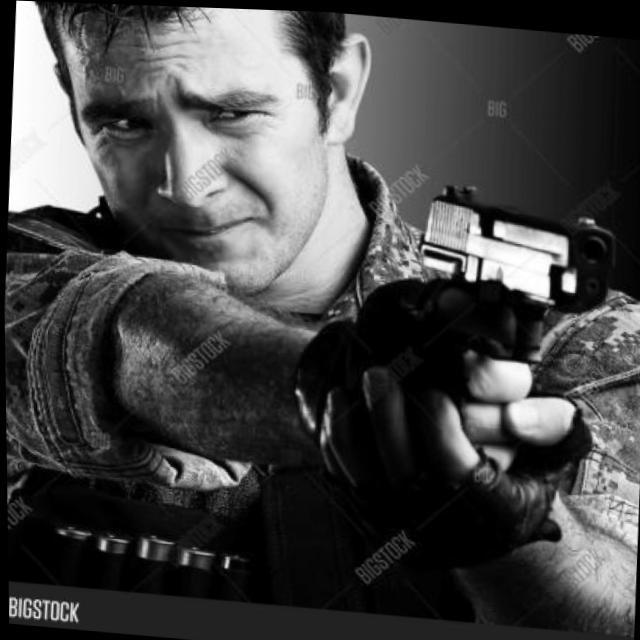weapon: (383, 168, 640, 477)
